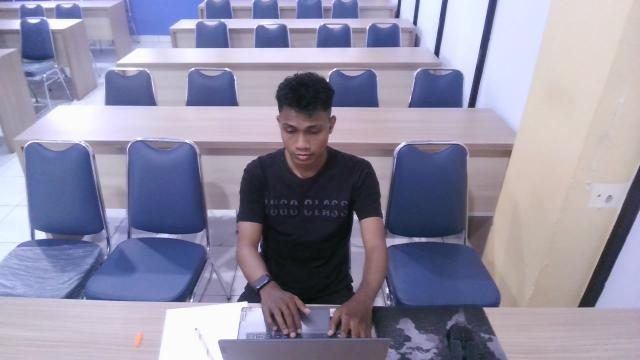Looking_Around: (222, 63, 399, 243)
